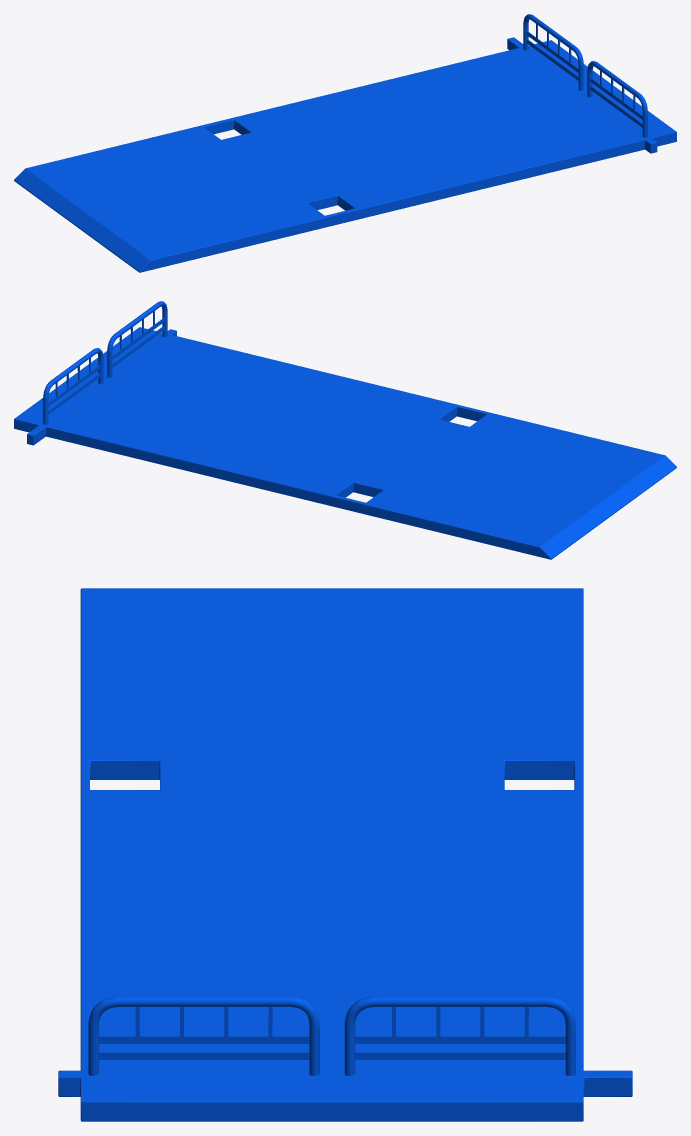
File: Cargo_Platform.fbx
3 views of the same model, one above another, from view 1: azimuth 30°, elevation 25°; view 2: azimuth 150°, elevation 25°; view 3: azimuth 270°, elevation 25° (orthographic). The views are drawn at different scales.
Parts seen in each view (by area): view 1: Vagon_Plataforma_Carga, Rejas; view 2: Vagon_Plataforma_Carga, Rejas; view 3: Vagon_Plataforma_Carga, Rejas.
Part boxes in pixels (<box>): Vagon_Plataforma_Carga: <box>14,37,676,272</box>; Rejas: <box>523,14,647,137</box>; Vagon_Plataforma_Carga: <box>14,327,676,559</box>; Rejas: <box>43,301,167,424</box>; Vagon_Plataforma_Carga: <box>58,588,632,1121</box>; Rejas: <box>88,996,575,1075</box>.
Size of the model in its own units: 1405 by 121 by 650.
